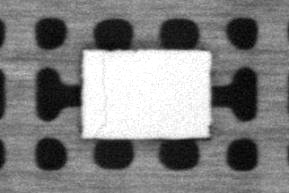DIE_CRACK: (93, 54, 107, 136)
